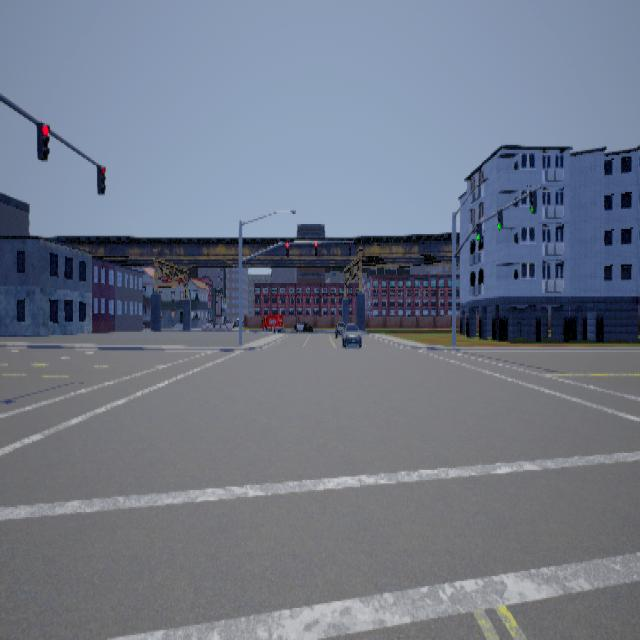red_light: (38, 120, 51, 160), (98, 163, 107, 194), (287, 241, 290, 256), (316, 241, 319, 254)
traffic_light: (530, 189, 538, 212), (498, 207, 504, 229), (477, 221, 483, 239), (350, 241, 352, 254)
vehicle: (336, 320, 363, 347)
